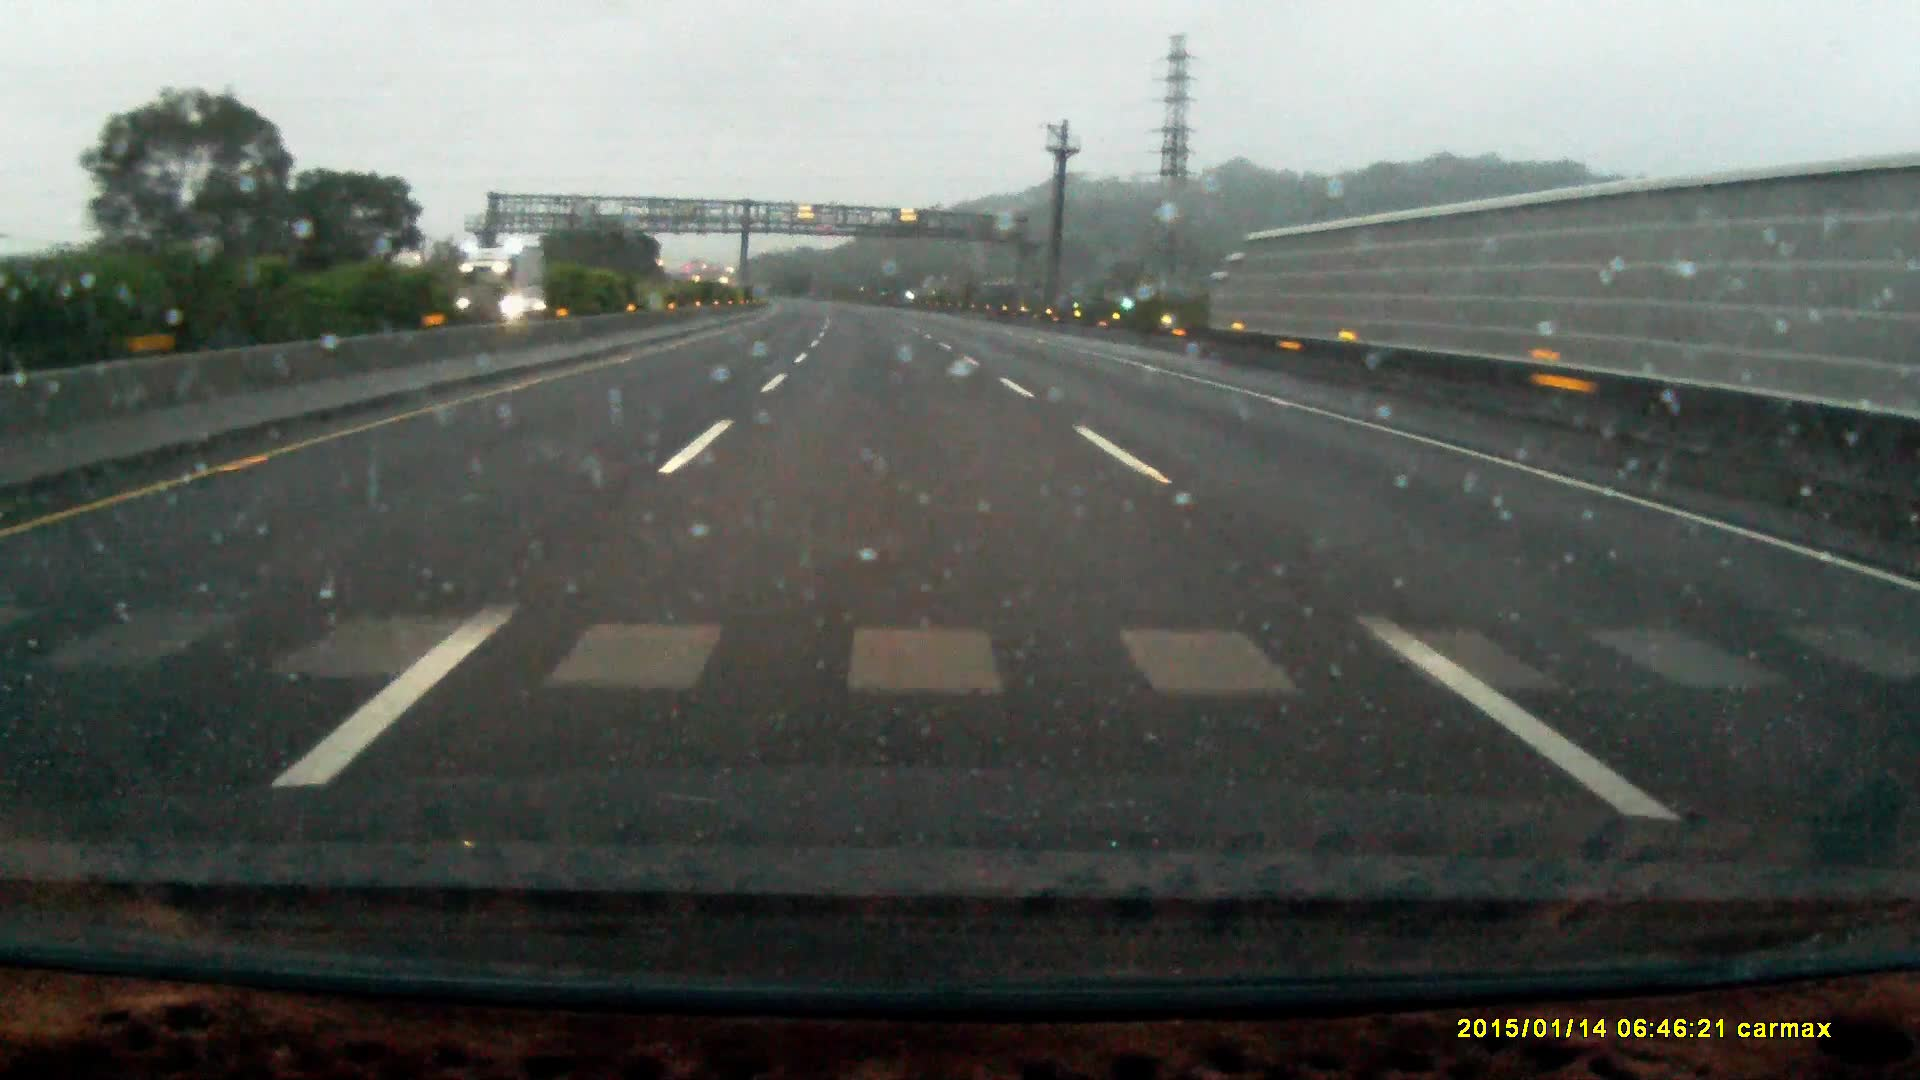vehicle: (460, 247, 553, 320), (501, 281, 574, 316)
